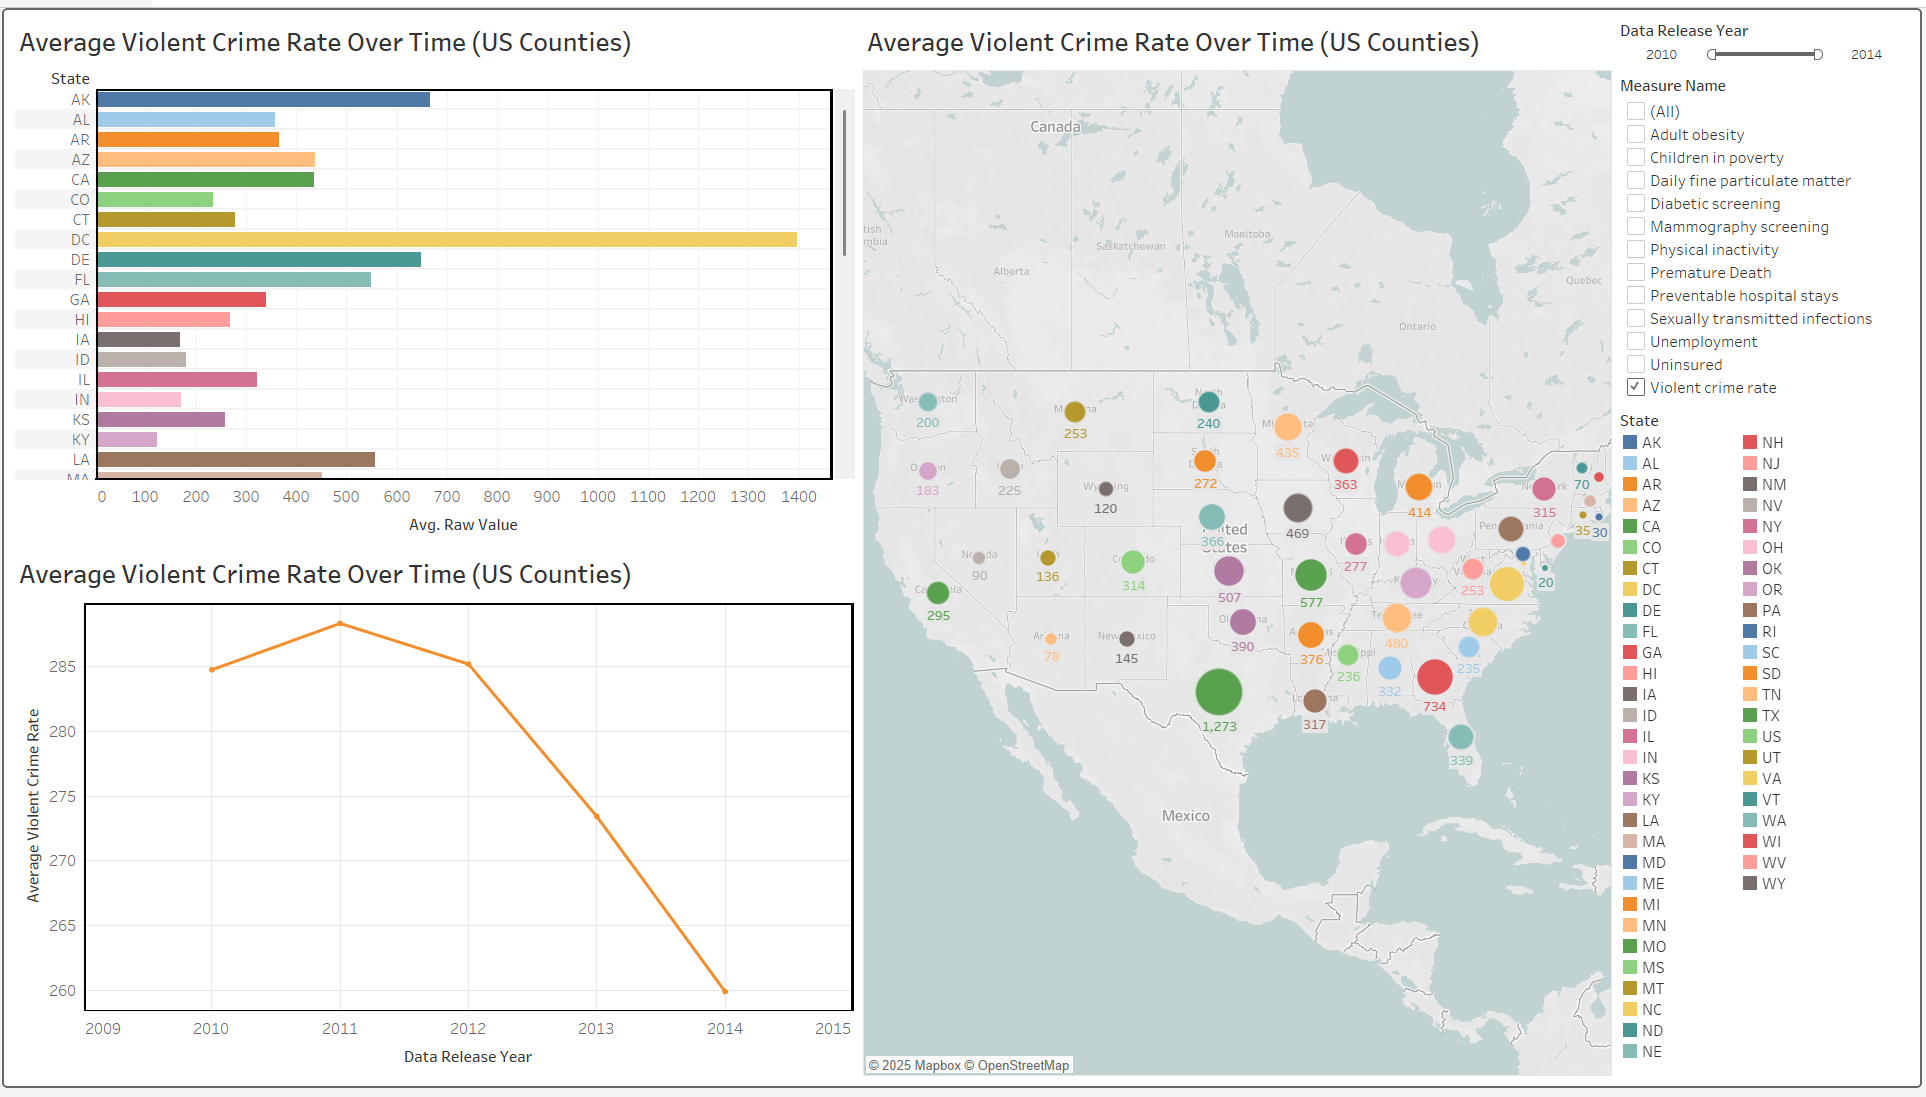

The dashboard page shown, as its layout file describes it:
{"tool":"tableau","page":{"name":"Dashboard 1","canvas":[1000,1000],"units":"permille","ordinal":0},"visuals":[{"type":"worksheet","title":"Sheet 1 (3)","mark":"Bar","rows":["State"],"cols":["Raw_Value"],"box":[4.2,7.4,442.2,492.6]},{"type":"worksheet","title":"Sheet 1 (2)","mark":"Automatic","box":[446.4,7.4,394.3,985.2]},{"type":"filter","title":"Sheet 1","param":"[federated.1hzt34c1egfoly164yc550zupg7n].[none:Data_Release_Year:qk]","box":[840.6,7.4,155.2,50.9]},{"type":"filter","title":"Sheet 1","param":"[federated.1hzt34c1egfoly164yc550zupg7n].[none:Measure_Name:nk]","box":[840.6,58.3,155.2,310.2]},{"type":"legend","title":"Sheet 1 (2)","param":"[federated.1hzt34c1egfoly164yc550zupg7n].[none:State:nk]","box":[840.6,368.5,155.2,624.1]},{"type":"worksheet","title":"Sheet 1","mark":"Line","rows":["Raw_Value"],"cols":["Data_Release_Year"],"box":[4.2,500,442.2,492.6]}]}

Visuals, with their boxes on the dashboard's canvas, which has no fixed pixel size, in thousandths of its width and height (x1, y1, x2, y2). These are canvas units, not pixel positions in the 1926x1097 screenshot, which may show the page scaled, cropped or inside an application window:
"Sheet 1 (3)" worksheet (Bar marks): 4, 7, 446, 500
"Sheet 1 (2)" worksheet: 446, 7, 841, 993
"Sheet 1" filter: 841, 7, 996, 58
"Sheet 1" filter: 841, 58, 996, 368
"Sheet 1 (2)" legend: 841, 368, 996, 993
"Sheet 1" worksheet (Line marks): 4, 500, 446, 993
